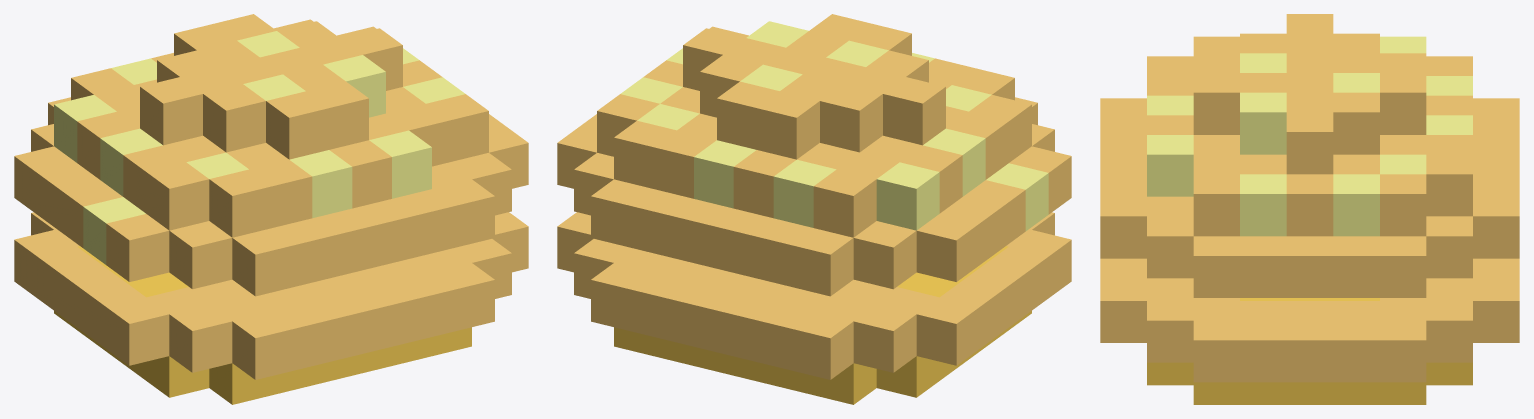
Rendered from pan_cortado.obj.
The picture shows the model from 3 angles, left to right: view 1: azimuth 30°, elevation 25°; view 2: azimuth 150°, elevation 25°; view 3: azimuth 270°, elevation 25°; orthographic projection.
Size of the model in its own units: 1 by 0.6 by 0.9.
